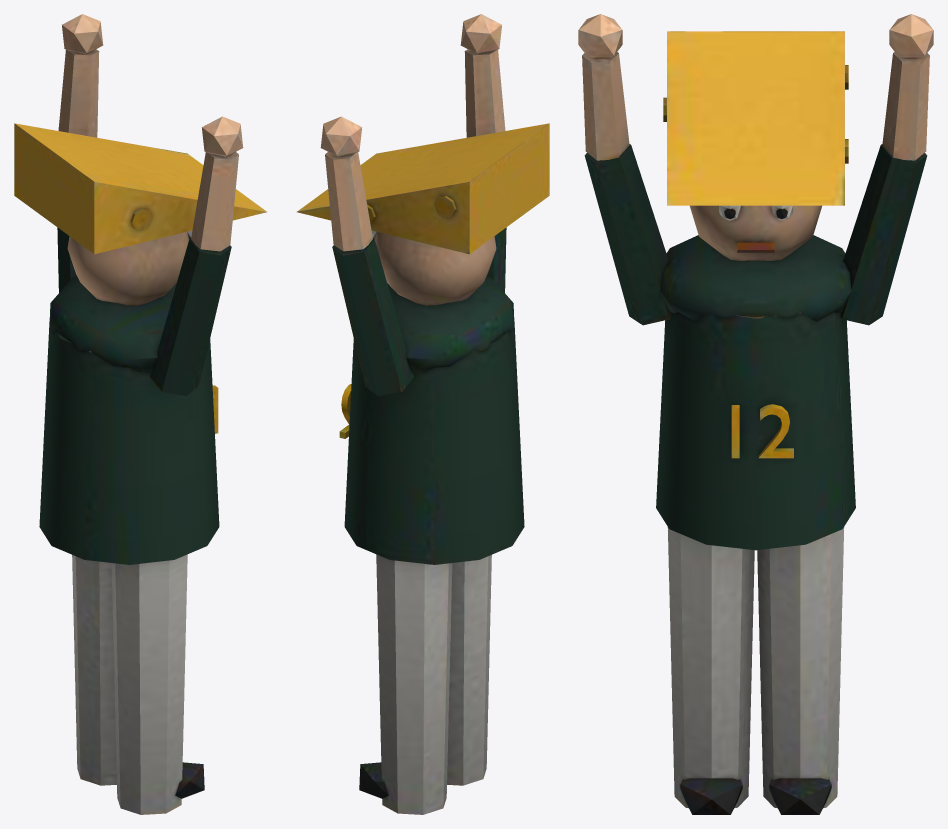
File: fan_queso.glb
3 renders of one model, left to right at view 1: azimuth 30°, elevation 25°; view 2: azimuth 150°, elevation 25°; view 3: azimuth 270°, elevation 25°, orthographic. The views are drawn at different scales.
Visible parts, largest first — view 1: fan_queso; view 2: fan_queso; view 3: fan_queso.
Boxes of the visible parts, x1,y1,x2,y2 form: fan_queso: (14,14,266,814); fan_queso: (297,14,549,814); fan_queso: (578,14,933,814).
Bounding box in the file's own units: 0.61 × 2.39 × 0.9591.
Materials: 1 (1 with a texture image).
